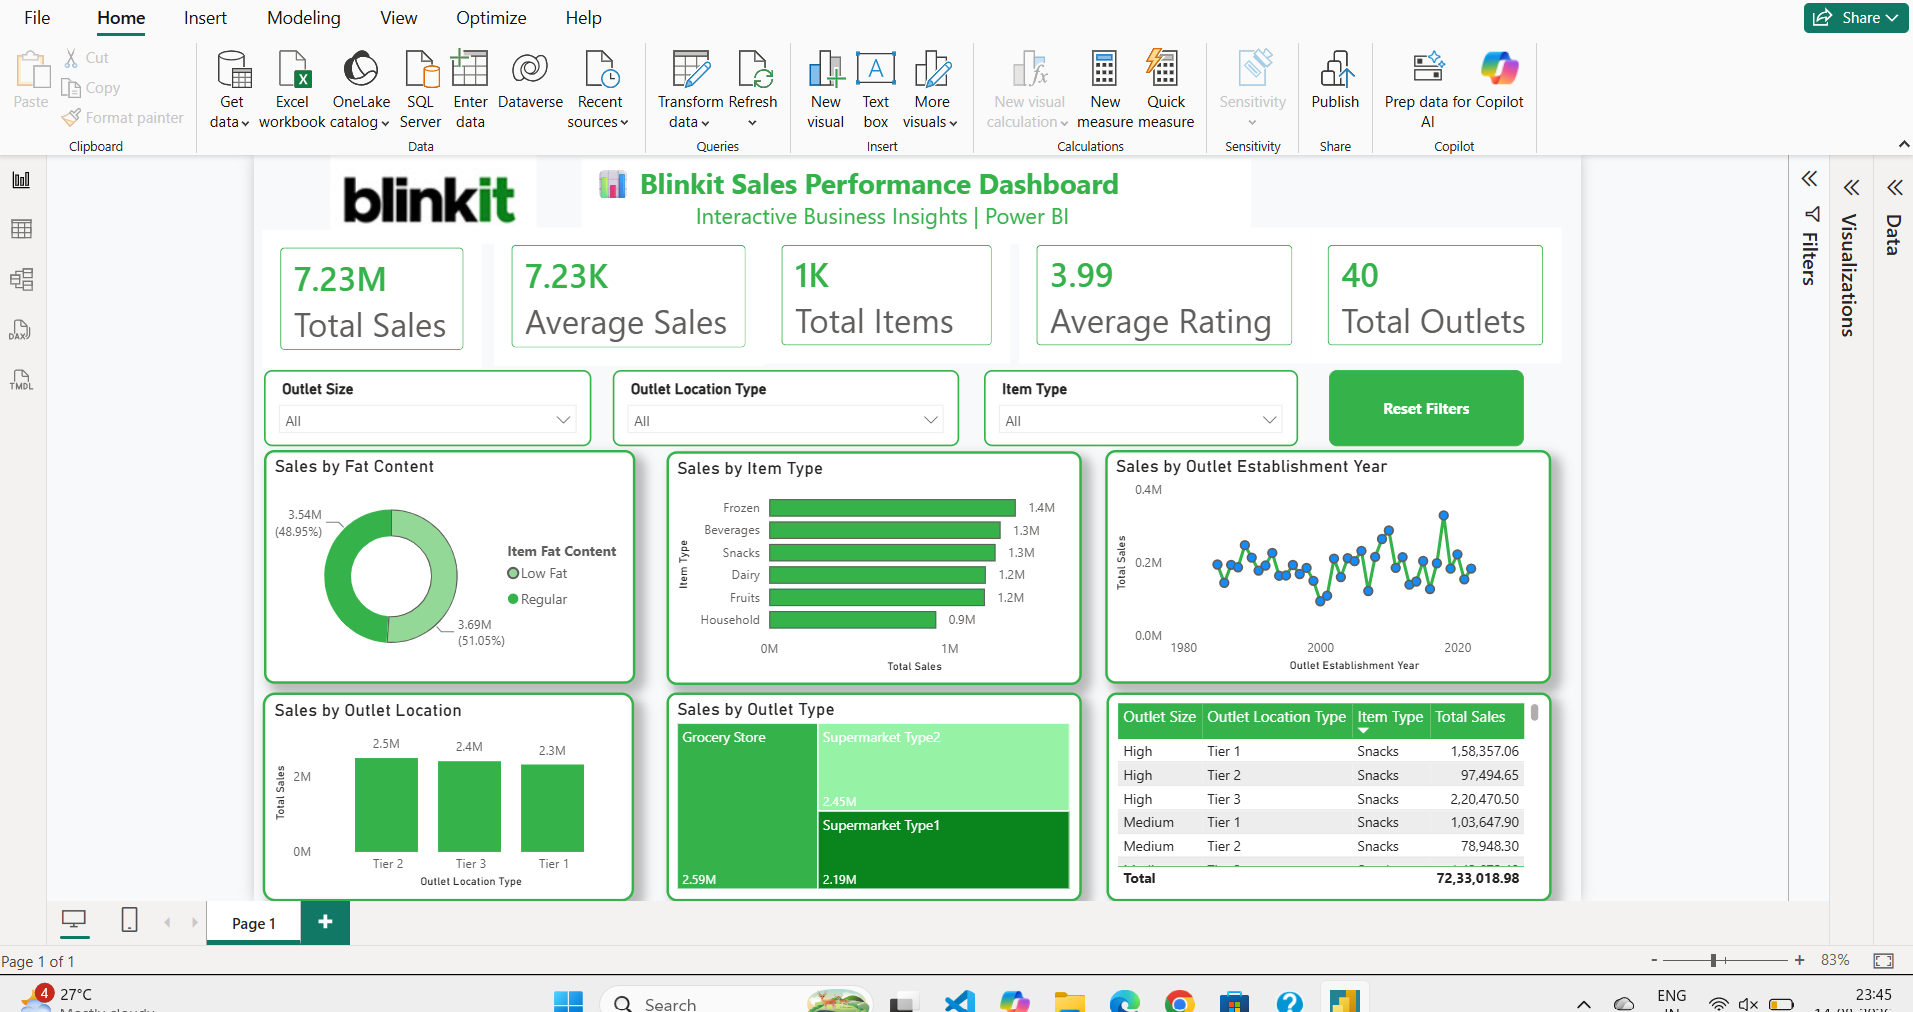

What the dashboard file says about the page in this screenshot:
{"tool":"powerbi","page":{"name":"Page 1","canvas":[1280,720],"ordinal":0},"visuals":[{"type":"cardVisual","fields":{"Data":["BlinkIT_Data.Average Sales"]},"box":[231.6,70,260.6,133.9],"z":0},{"type":"cardVisual","fields":{"Data":["BlinkIT_Data.Average Rating"]},"box":[738.3,70,281.1,131.5],"z":1000},{"type":"cardVisual","fields":{"Data":["BlinkIT_Data.Total Items"]},"box":[492.2,70,237.7,131.5],"z":2000},{"type":"donutChart","title":"Sales by Fat Content","fields":{"Category":["BlinkIT_Data.Item Fat Content"],"Y":["BlinkIT_Data.Total Sales"]},"box":[9.7,284.7,358.3,225.6],"z":3000},{"type":"clusteredBarChart","title":"Sales by Item Type","fields":{"Category":["BlinkIT_Data.Item Type"],"Y":["BlinkIT_Data.Total Sales"]},"box":[398.1,285.9,400.5,225.6],"z":4000},{"type":"lineChart","title":"Sales by Outlet Establishment Year","fields":{"Y":["BlinkIT_Data.Total Sales"],"Category":["BlinkIT_Data.Outlet Establishment Year"]},"box":[821.6,284.7,430.7,225.6],"z":5000},{"type":"columnChart","title":"Sales by Outlet Location","fields":{"Category":["BlinkIT_Data.Outlet Location Type"],"Y":["BlinkIT_Data.Total Sales"]},"box":[8.4,518.8,358.3,201.5],"z":6000},{"type":"treemap","title":" Sales by Outlet Type","fields":{"Group":["BlinkIT_Data.Outlet Type"],"Values":["BlinkIT_Data.Total Sales"]},"box":[398.1,518.8,400.5,201.5],"z":7000},{"type":"tableEx","fields":{"Values":["BlinkIT_Data.Outlet Size","BlinkIT_Data.Outlet Location Type","BlinkIT_Data.Item Type","BlinkIT_Data.Total Sales"]},"box":[822.8,518.8,429.5,201.5],"z":8000},{"type":"textbox","box":[316.1,3.6,646.7,82],"z":9000},{"type":"image","box":[0,0,346.2,85.7],"z":10000},{"type":"cardVisual","fields":{"Data":["BlinkIT_Data.Total Sales"]},"box":[8.4,72.4,211.1,133.9],"z":11000},{"type":"slicer","fields":{"Values":["BlinkIT_Data.Outlet Size"]},"box":[9.7,207.5,316.1,73.6],"z":12000},{"type":"slicer","fields":{"Values":["BlinkIT_Data.Outlet Location Type"]},"box":[346.2,207.5,334.2,73.6],"z":13000},{"type":"slicer","fields":{"Values":["BlinkIT_Data.Item Type"]},"box":[704.6,207.5,302.8,73.6],"z":14000},{"type":"actionButton","box":[1037.5,207.5,188.2,73.6],"z":15000},{"type":"cardVisual","fields":{"Data":["BlinkIT_Data.Total Outlets"]},"box":[1019.4,70,242.5,131.5],"z":16000}]}

Visuals, with their boxes on the page's 1280x720 design canvas (x1, y1, x2, y2). These are canvas units, not pixel positions in the 1913x1012 screenshot, which may show the page scaled, cropped or inside an application window:
cardVisual - BlinkIT_Data.Average Sales: {"x1": 232, "y1": 70, "x2": 492, "y2": 204}
cardVisual - BlinkIT_Data.Average Rating: {"x1": 738, "y1": 70, "x2": 1019, "y2": 202}
cardVisual - BlinkIT_Data.Total Items: {"x1": 492, "y1": 70, "x2": 730, "y2": 202}
"Sales by Fat Content" donutChart: {"x1": 10, "y1": 285, "x2": 368, "y2": 510}
"Sales by Item Type" clusteredBarChart: {"x1": 398, "y1": 286, "x2": 799, "y2": 512}
"Sales by Outlet Establishment Year" lineChart: {"x1": 822, "y1": 285, "x2": 1252, "y2": 510}
"Sales by Outlet Location" columnChart: {"x1": 8, "y1": 519, "x2": 367, "y2": 720}
" Sales by Outlet Type" treemap: {"x1": 398, "y1": 519, "x2": 799, "y2": 720}
tableEx - BlinkIT_Data.Outlet Size x BlinkIT_Data.Outlet Location Type: {"x1": 823, "y1": 519, "x2": 1252, "y2": 720}
textbox: {"x1": 316, "y1": 4, "x2": 963, "y2": 86}
image: {"x1": 0, "y1": 0, "x2": 346, "y2": 86}
cardVisual - BlinkIT_Data.Total Sales: {"x1": 8, "y1": 72, "x2": 220, "y2": 206}
slicer - BlinkIT_Data.Outlet Size: {"x1": 10, "y1": 208, "x2": 326, "y2": 281}
slicer - BlinkIT_Data.Outlet Location Type: {"x1": 346, "y1": 208, "x2": 680, "y2": 281}
slicer - BlinkIT_Data.Item Type: {"x1": 705, "y1": 208, "x2": 1007, "y2": 281}
actionButton: {"x1": 1038, "y1": 208, "x2": 1226, "y2": 281}
cardVisual - BlinkIT_Data.Total Outlets: {"x1": 1019, "y1": 70, "x2": 1262, "y2": 202}
